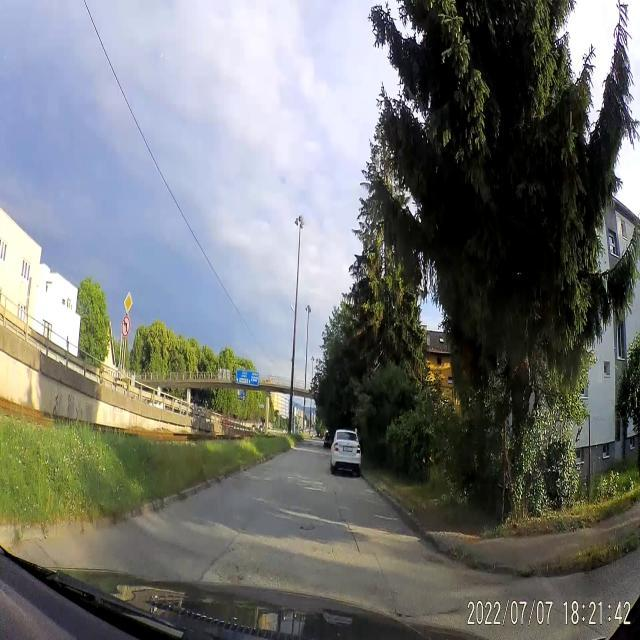Pothole: (298, 516, 316, 538)
